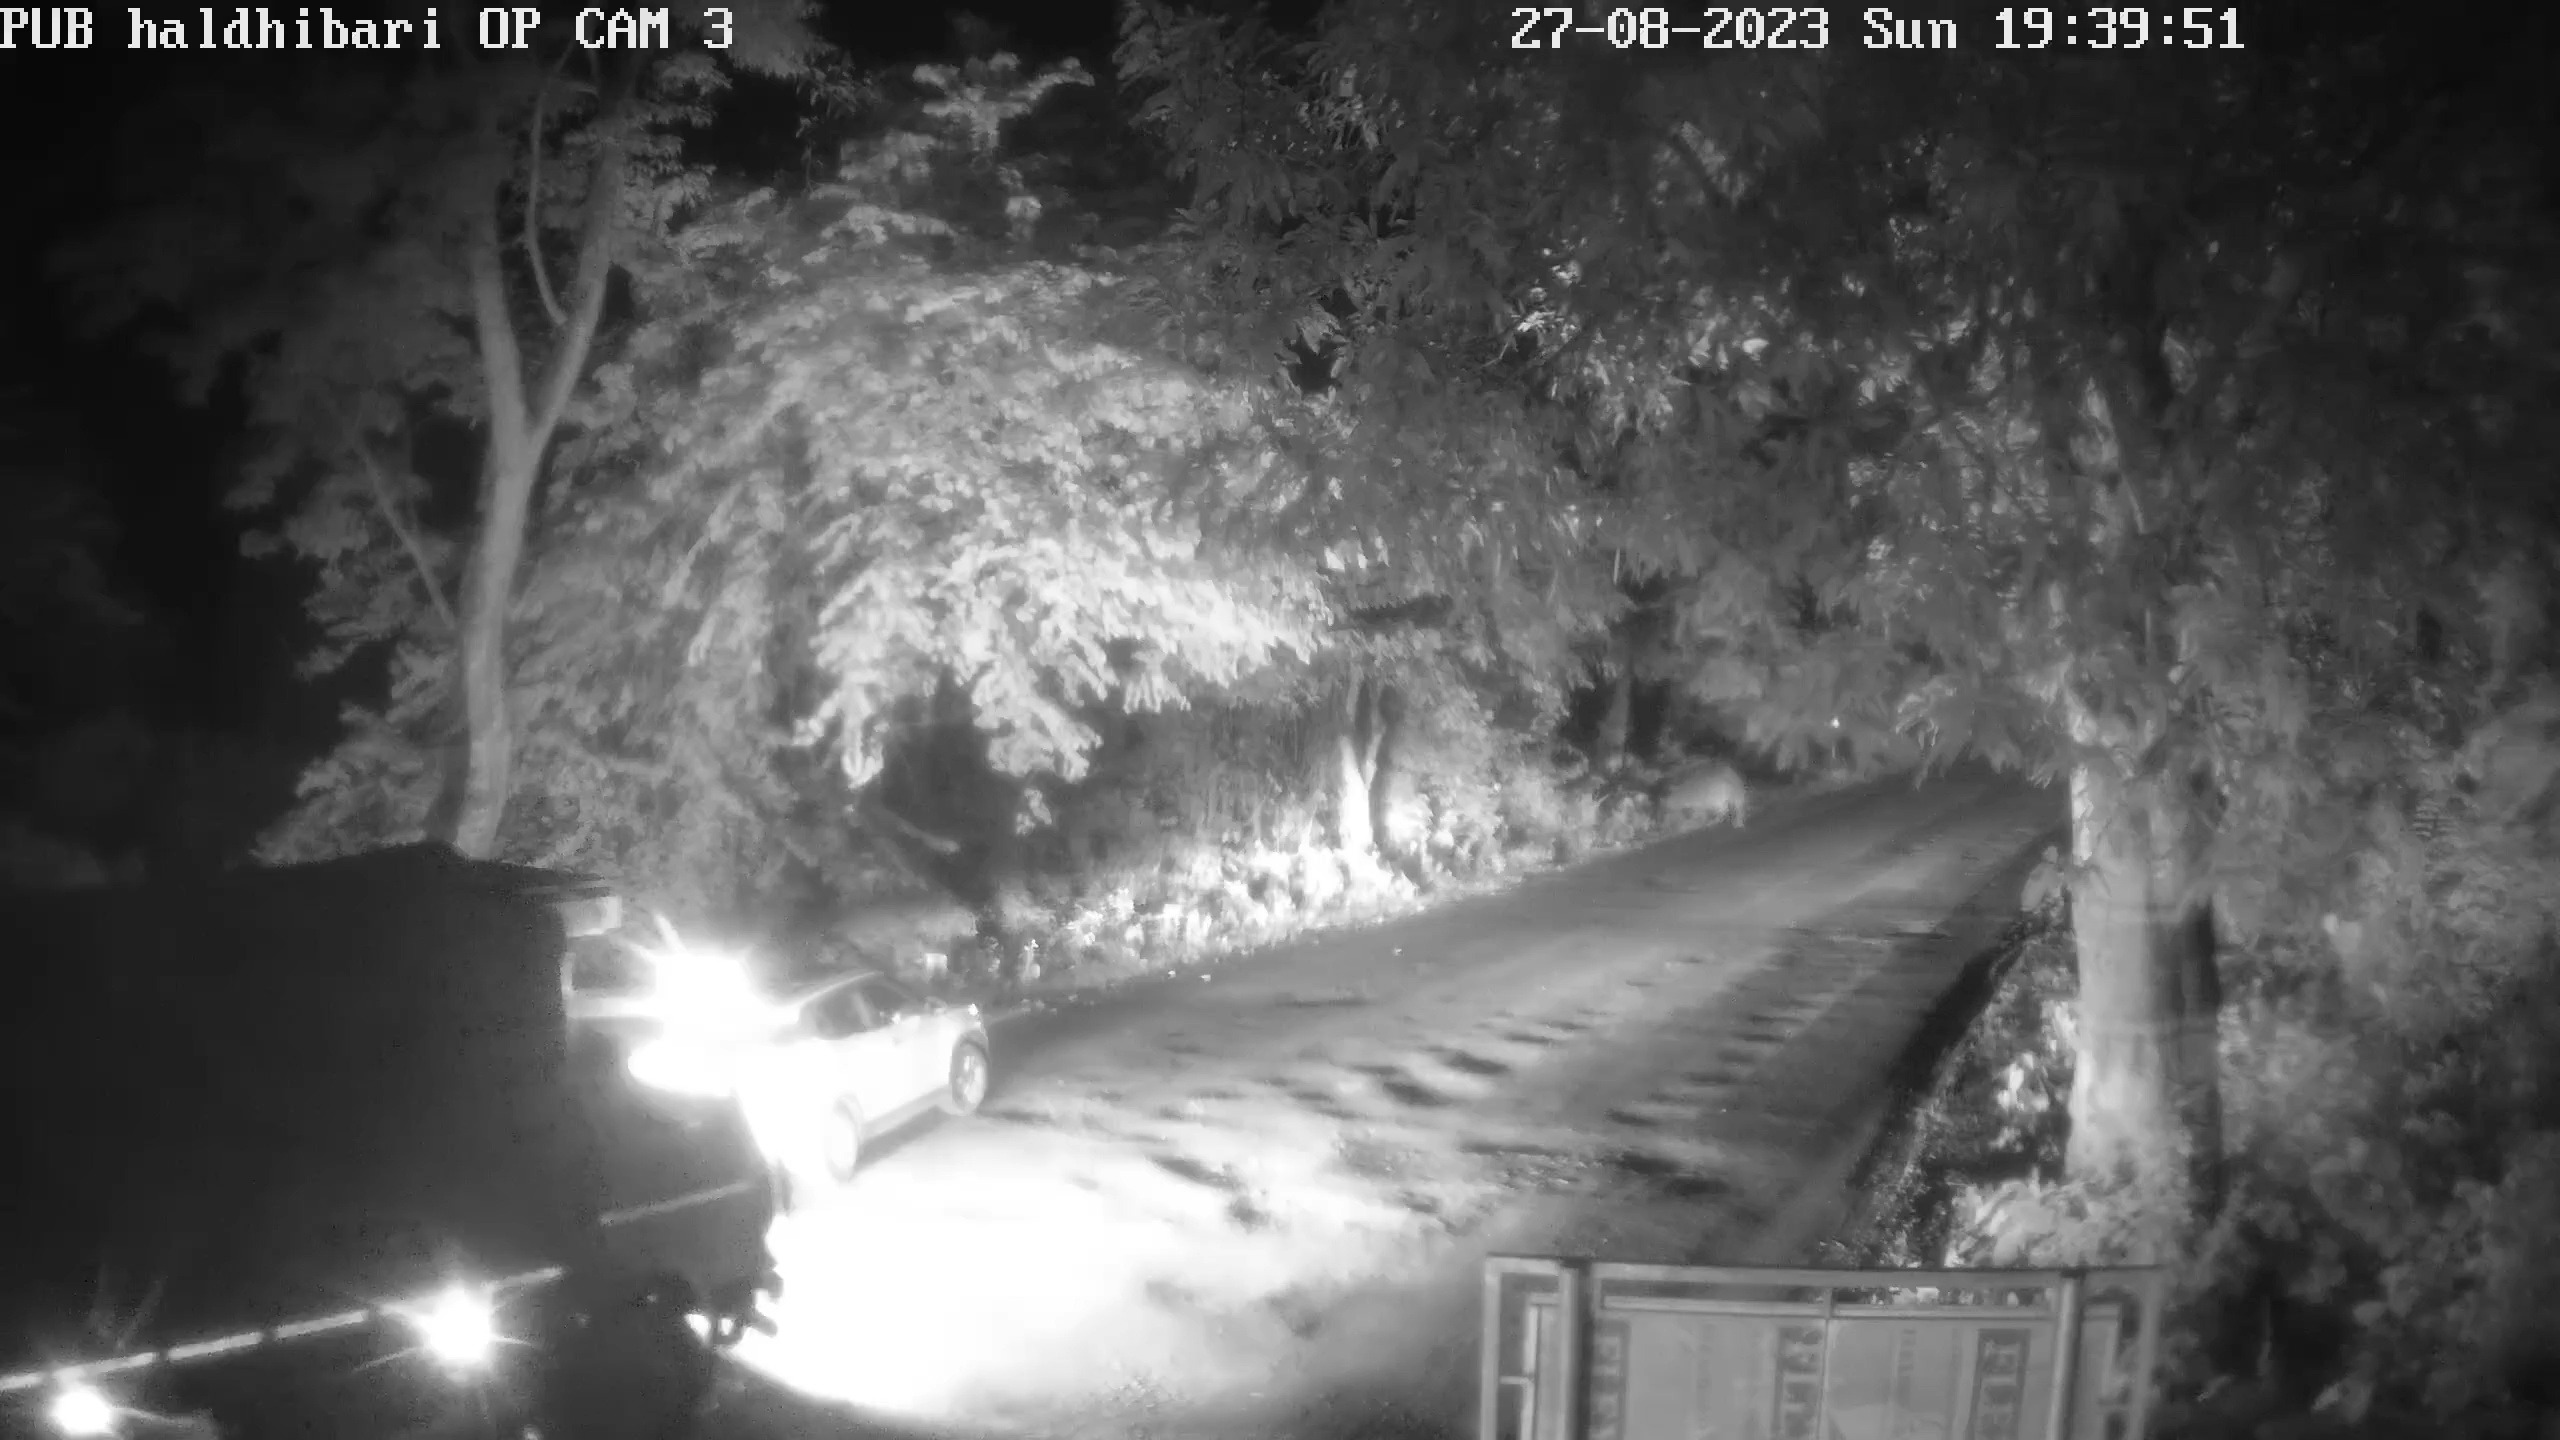rhinos: (1619, 763, 1753, 830)
